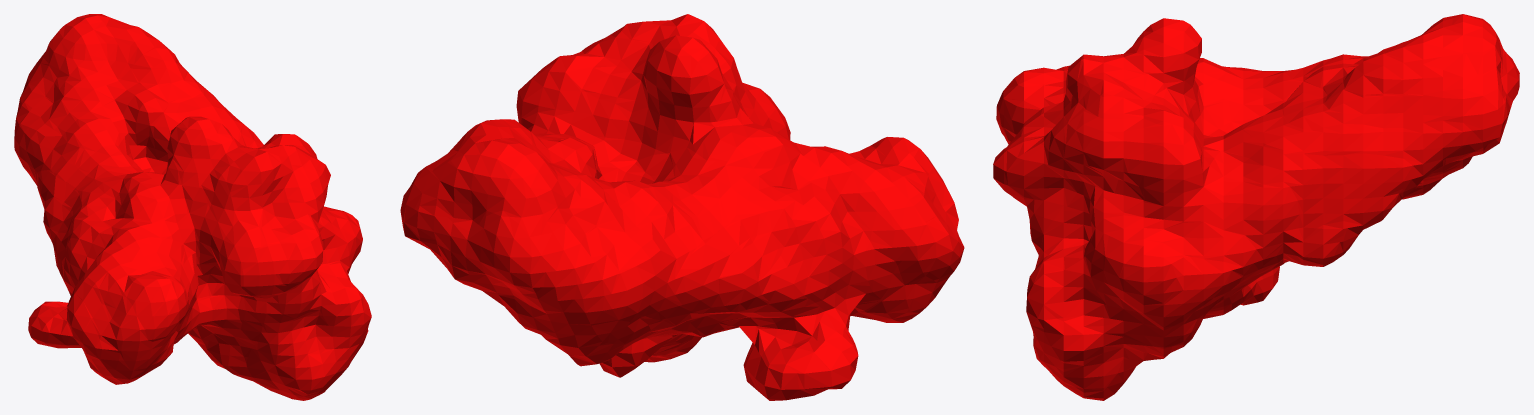
File: glyS_coarse.dae
3 views of the same model, side by side, from view 1: azimuth 30°, elevation 25°; view 2: azimuth 150°, elevation 25°; view 3: azimuth 270°, elevation 25° (orthographic). The views are drawn at different scales.
Parts seen in each view (by area): view 1: glyS; view 2: glyS; view 3: glyS.
Part boxes in pixels (x1=…): glyS: x1=14, y1=14, x2=371, y2=400; glyS: x1=400, y1=14, x2=964, y2=400; glyS: x1=993, y1=14, x2=1519, y2=400.
Size of the model in its own units: 80.54 by 69.54 by 96.74.
